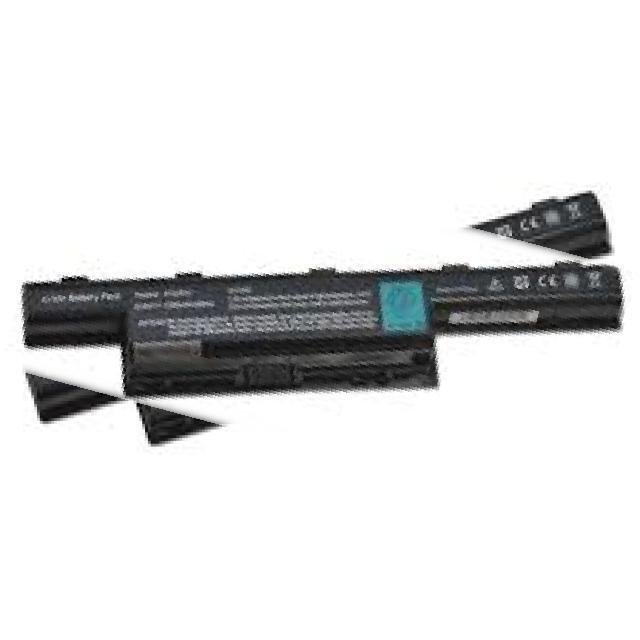Battery: (0, 225, 640, 420)
